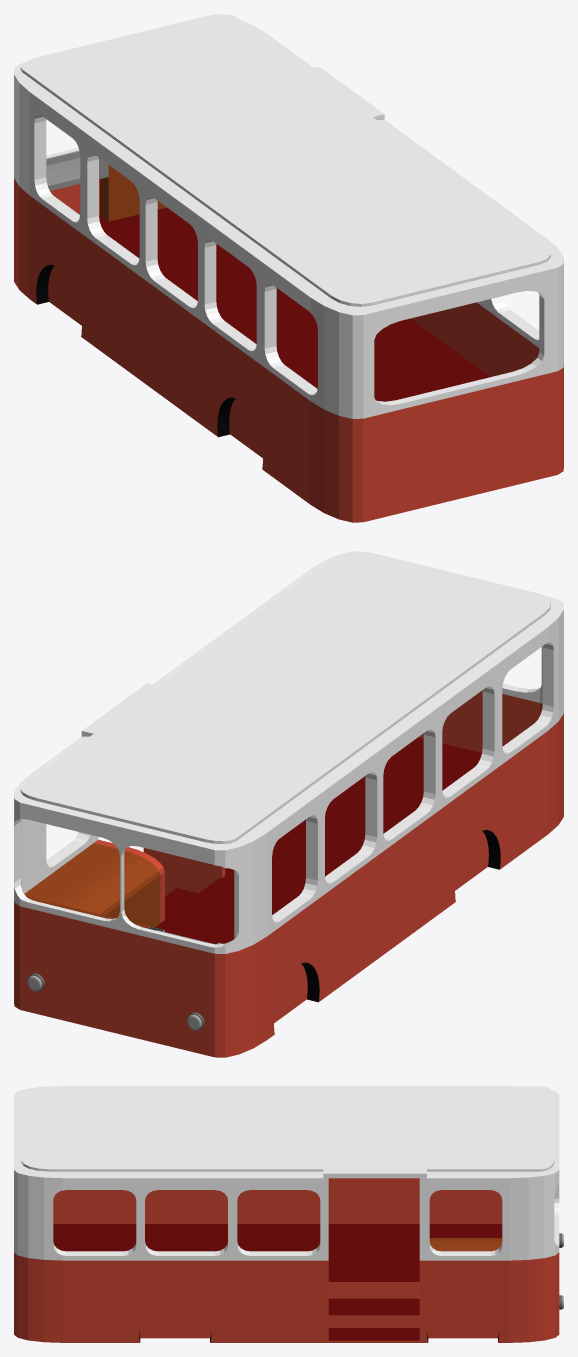
File: Bus_car.fbx
The picture shows the model from 3 angles, top to bottom: view 1: azimuth 30°, elevation 25°; view 2: azimuth 150°, elevation 25°; view 3: azimuth 270°, elevation 25°; orthographic projection. The views are drawn at different scales.
Visible parts, largest first — view 1: Куб; view 2: Куб; view 3: Куб.
Part boxes in pixels (box(x1,y1,x2,y2)): Куб: box(14, 14, 563, 522); Куб: box(14, 551, 563, 1057); Куб: box(14, 1086, 563, 1342).
Size of the model in its own units: 600 by 513 by 1513.
